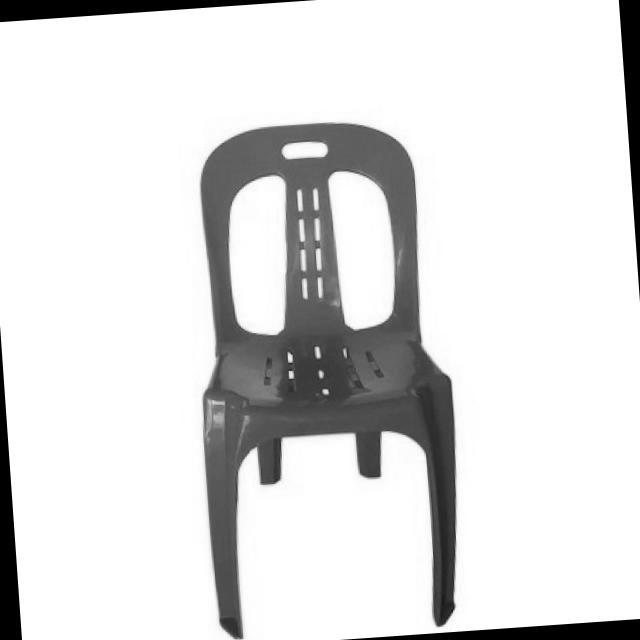chair: (175, 116, 469, 640)
